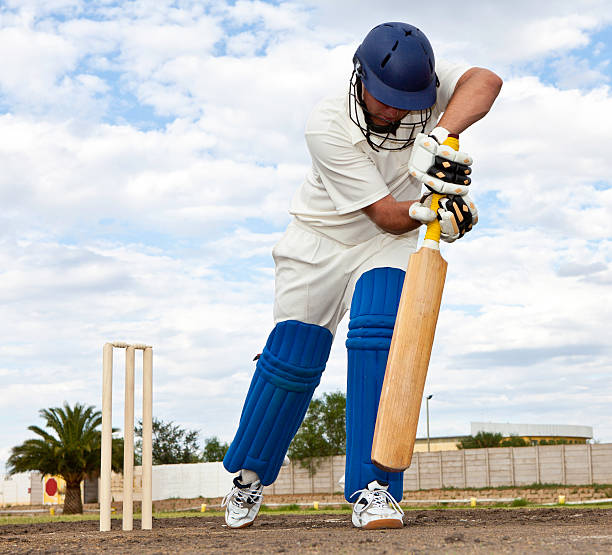bottom left: (362, 445, 386, 469)
bottom right: (399, 453, 423, 477)
top left: (399, 238, 425, 264)
top right: (429, 248, 457, 276)
